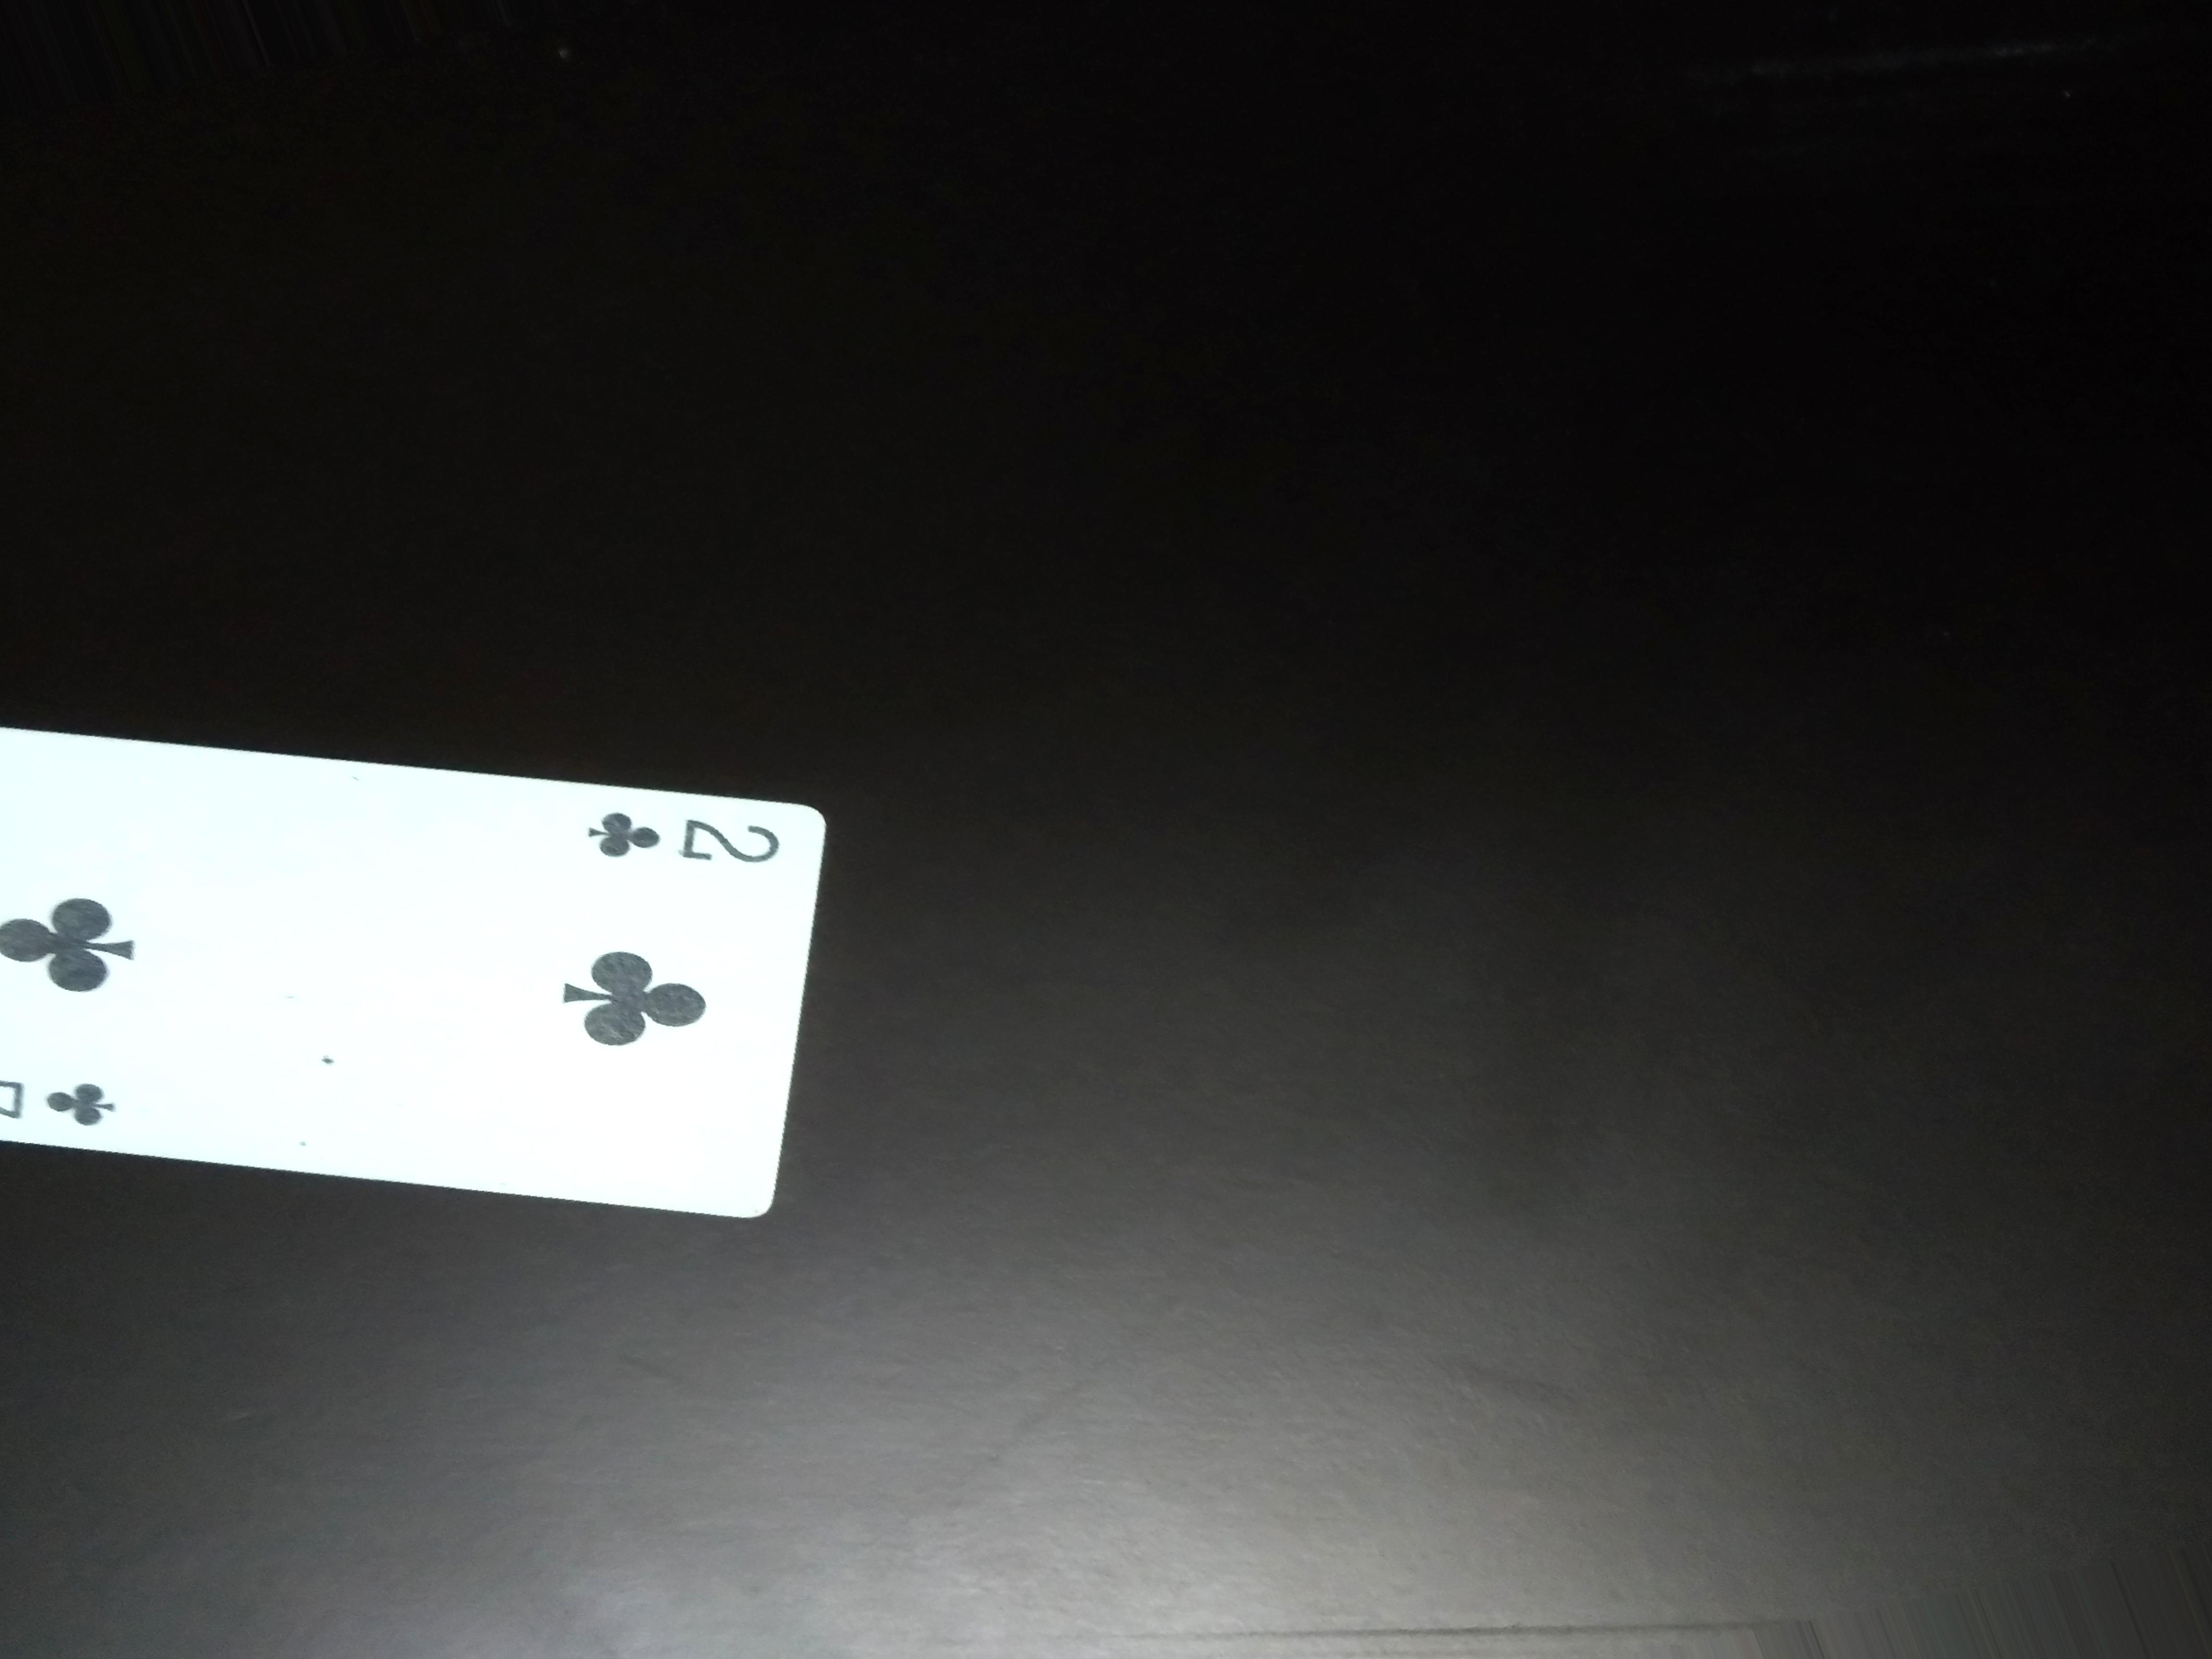2C: (543, 816, 801, 880)
